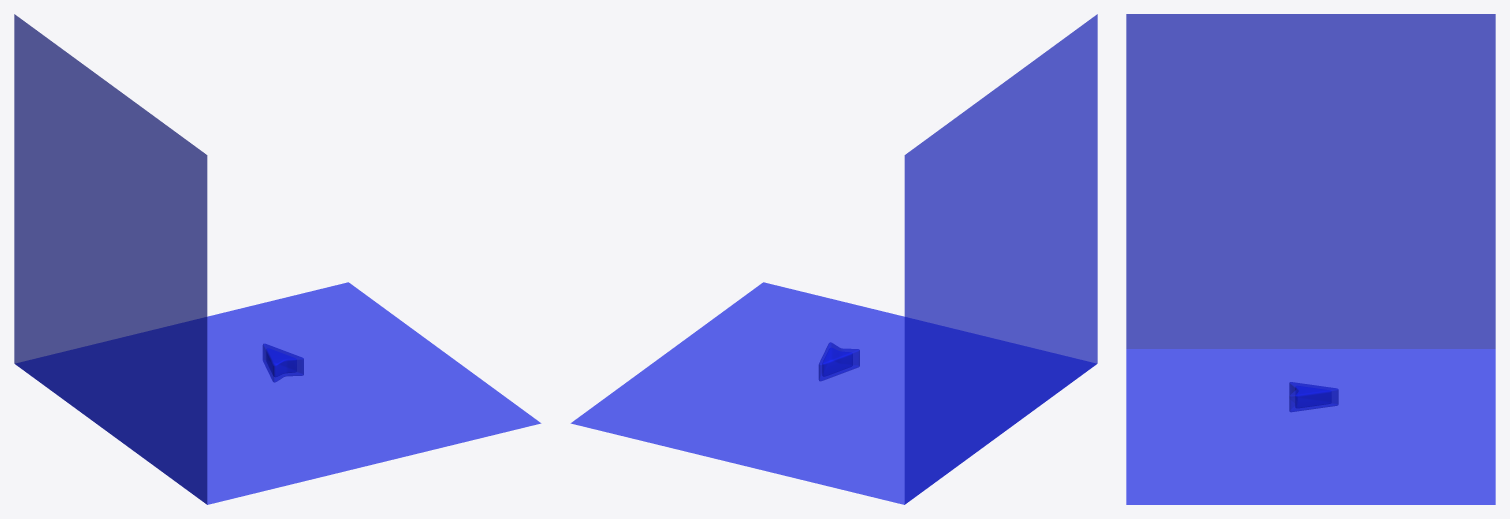
The model's file is Navigation Arrow.obj.
3 renders of one model, left to right at view 1: azimuth 30°, elevation 25°; view 2: azimuth 150°, elevation 25°; view 3: azimuth 270°, elevation 25°, orthographic. The views are drawn at different scales.
Parts seen in each view (by area): view 1: Plane.001_Plane.001, Plane_Plane, Navigation_Arrow_Vibrant_Blue, Navigation_Arrow_Vibrant_Blue.001; view 2: Plane.001_Plane.001, Plane_Plane, Navigation_Arrow_Vibrant_Blue, Navigation_Arrow_Vibrant_Blue.001; view 3: Plane.001_Plane.001, Plane_Plane, Navigation_Arrow_Vibrant_Blue, Navigation_Arrow_Vibrant_Blue.001.
Boxes of the visible parts, x1,y1,x2,y2 form: Plane.001_Plane.001: [14, 14, 207, 504]; Plane_Plane: [16, 282, 541, 504]; Navigation_Arrow_Vibrant_Blue: [262, 343, 303, 382]; Navigation_Arrow_Vibrant_Blue.001: [266, 348, 296, 377]; Plane.001_Plane.001: [904, 14, 1097, 504]; Plane_Plane: [570, 282, 1095, 504]; Navigation_Arrow_Vibrant_Blue: [818, 342, 859, 381]; Navigation_Arrow_Vibrant_Blue.001: [822, 347, 852, 376]; Plane.001_Plane.001: [1126, 14, 1495, 348]; Plane_Plane: [1126, 349, 1495, 504]; Navigation_Arrow_Vibrant_Blue: [1289, 382, 1338, 412]; Navigation_Arrow_Vibrant_Blue.001: [1295, 385, 1331, 408].
Bounding box in the file's own units: 2 × 2 × 2.
